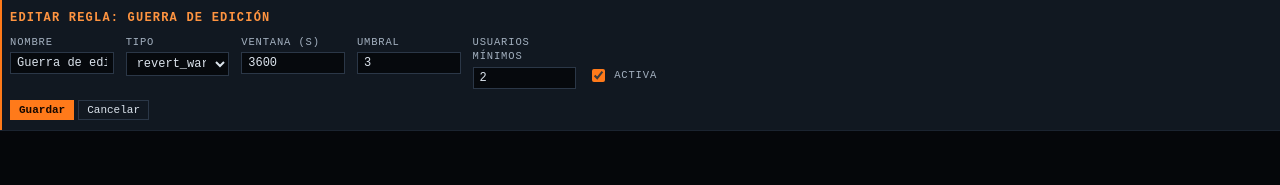
Test: RuleForm › shows the server error when saving fails
Click the button "Guardar". click: x=42, y=110
box: [10, 100, 74, 120]
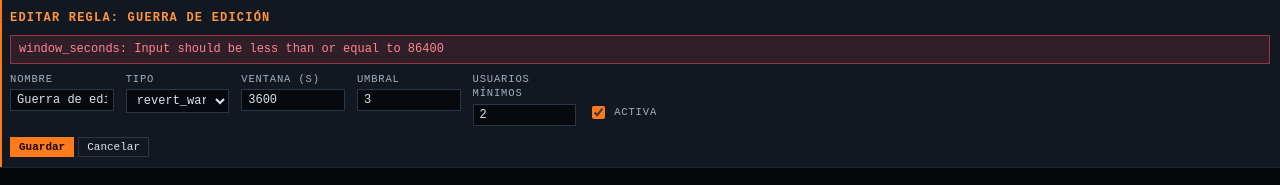
Check: the button "Guardar" is enabled, box [10, 137, 74, 157]
Check: the message reads "window_seconds: Input should be less than or equal to 86400", box [19, 42, 444, 56]
